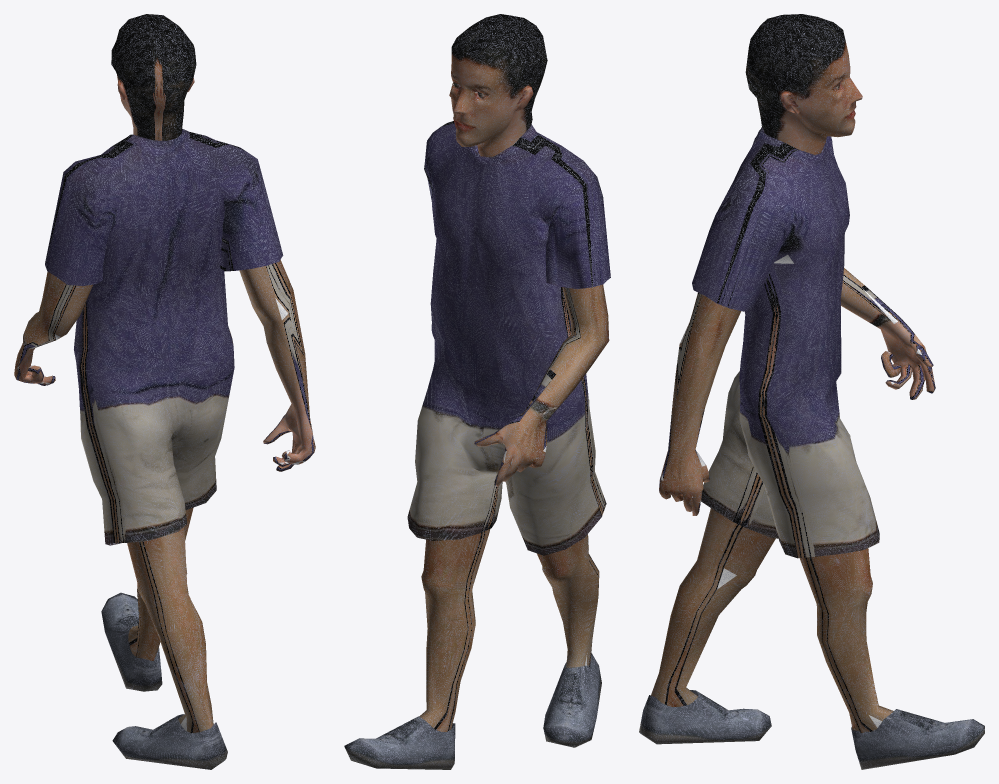
3 views of the same model, side by side, from view 1: azimuth 30°, elevation 25°; view 2: azimuth 150°, elevation 25°; view 3: azimuth 270°, elevation 25° (orthographic). The views are drawn at different scales.
Visible parts, largest first — view 1: cman0008-w (×8); view 2: cman0008-w (×7); view 3: cman0008-w (×8).
Boxes of the visible parts, <box> form: cman0008-w (×8): <box>14,14,315,769</box>; cman0008-w (×7): <box>344,14,610,769</box>; cman0008-w (×8): <box>639,14,984,769</box>.
Bounding box in the file's own units: 0.5426 × 0.7401 × 1.74.
Materials: 3 (1 with a texture image).
